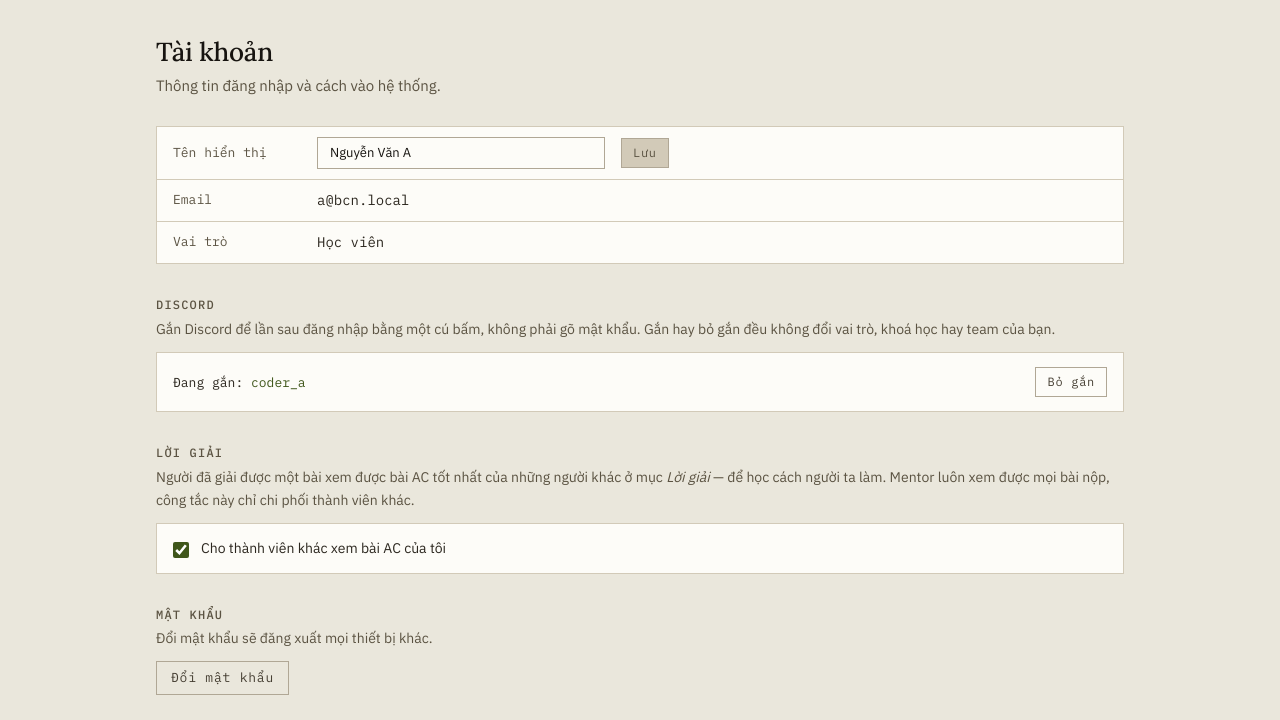
trang tài khoản › server chặn bỏ gắn thì nói lý do của server, không nói câu chung
The width and height of the screenshot is (1280, 720).
Click the button "Bỏ gắn" at {"x": 1071, "y": 382}, box [1036, 368, 1107, 398]
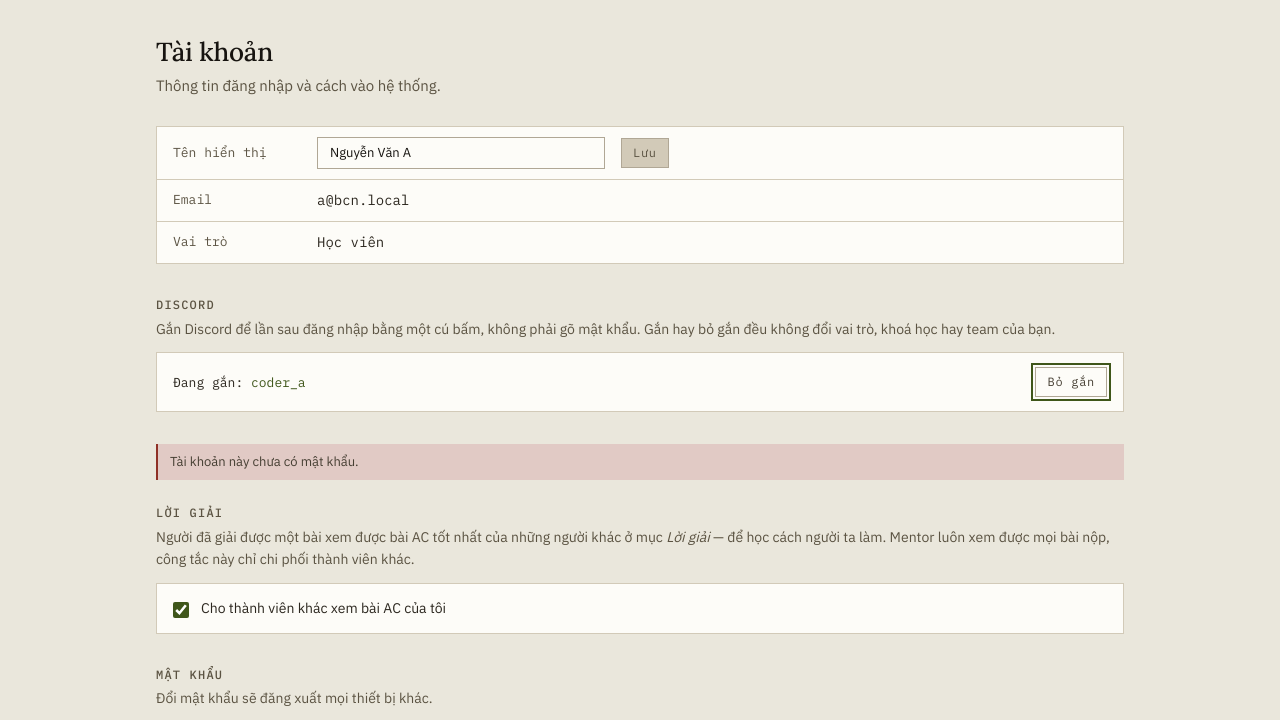
Expected: the message reads "Tài khoản này chưa có mật khẩu.", [170, 454, 359, 470]
